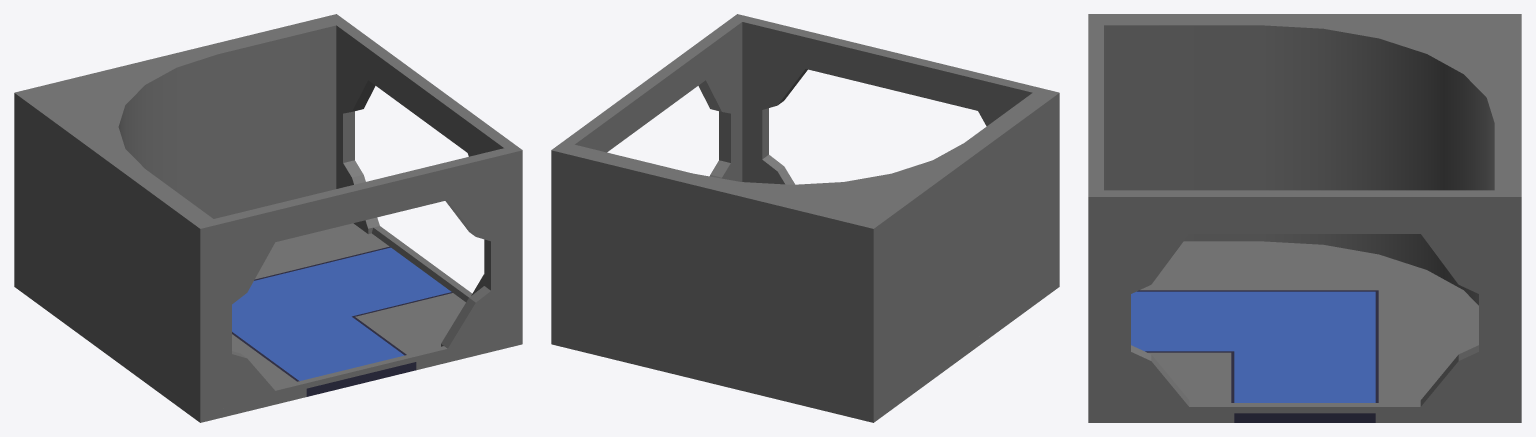
File: Path_L_right.glb
3 renders of one model, left to right at view 1: azimuth 30°, elevation 25°; view 2: azimuth 150°, elevation 25°; view 3: azimuth 270°, elevation 25°, orthographic. The views are drawn at different scales.
Visible parts, largest first — view 1: Path_L_right; view 2: Path_L_right; view 3: Path_L_right.
Part boxes in pixels (left/top/right/bottom): Path_L_right: left=14, top=14, right=522, bottom=422; Path_L_right: left=551, top=14, right=1059, bottom=422; Path_L_right: left=1088, top=14, right=1521, bottom=422.
Size of the model in its own units: 8 by 4.6 by 8.
